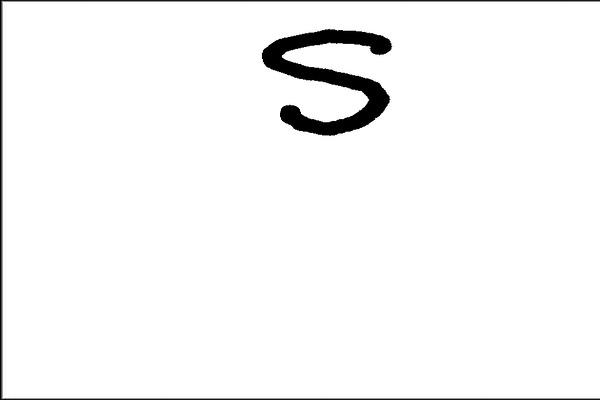S: (256, 23, 397, 137)
